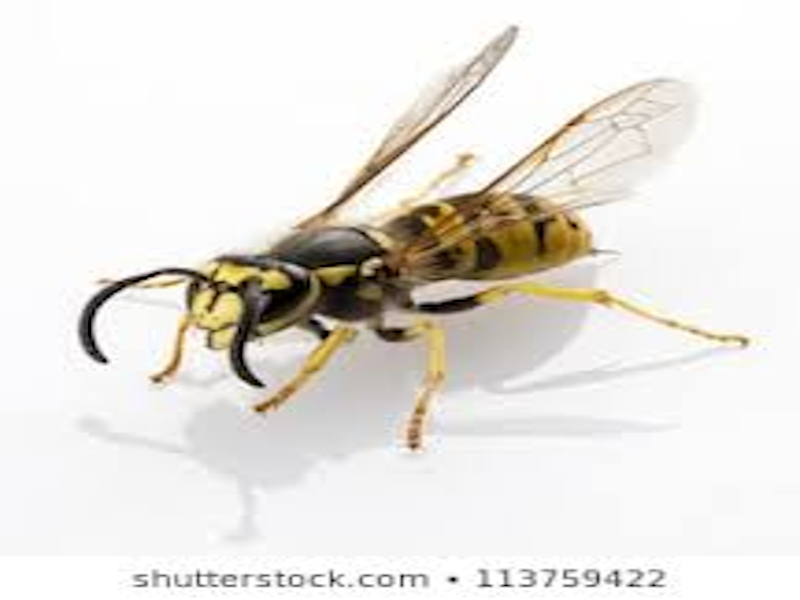chax: (69, 24, 758, 456)
